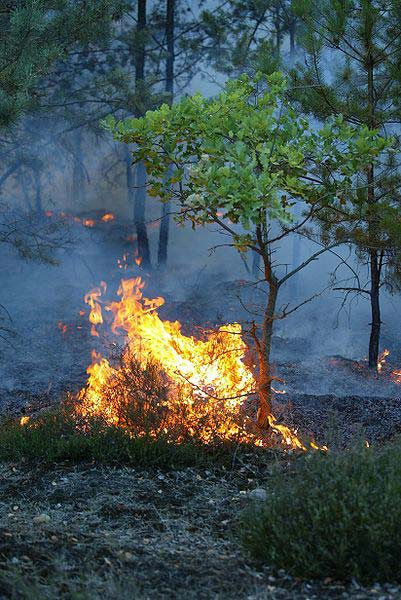fire: (65, 258, 330, 473), (31, 188, 221, 301), (307, 258, 401, 413)
